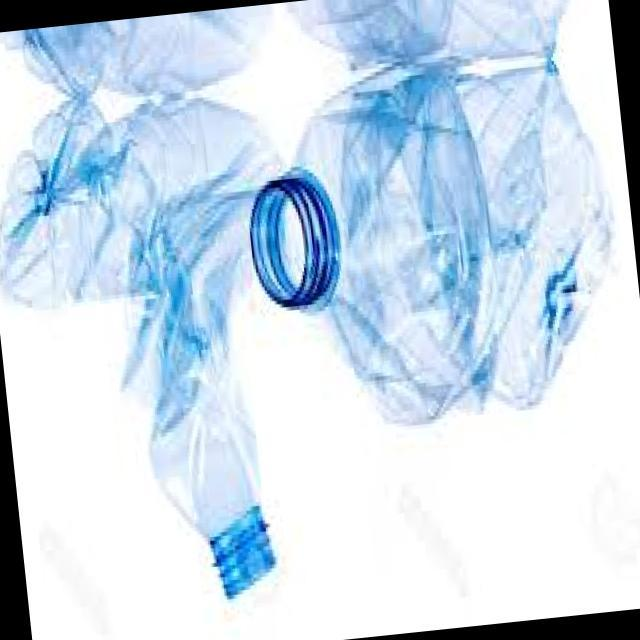defected: (0, 85, 323, 621), (235, 32, 638, 456)
